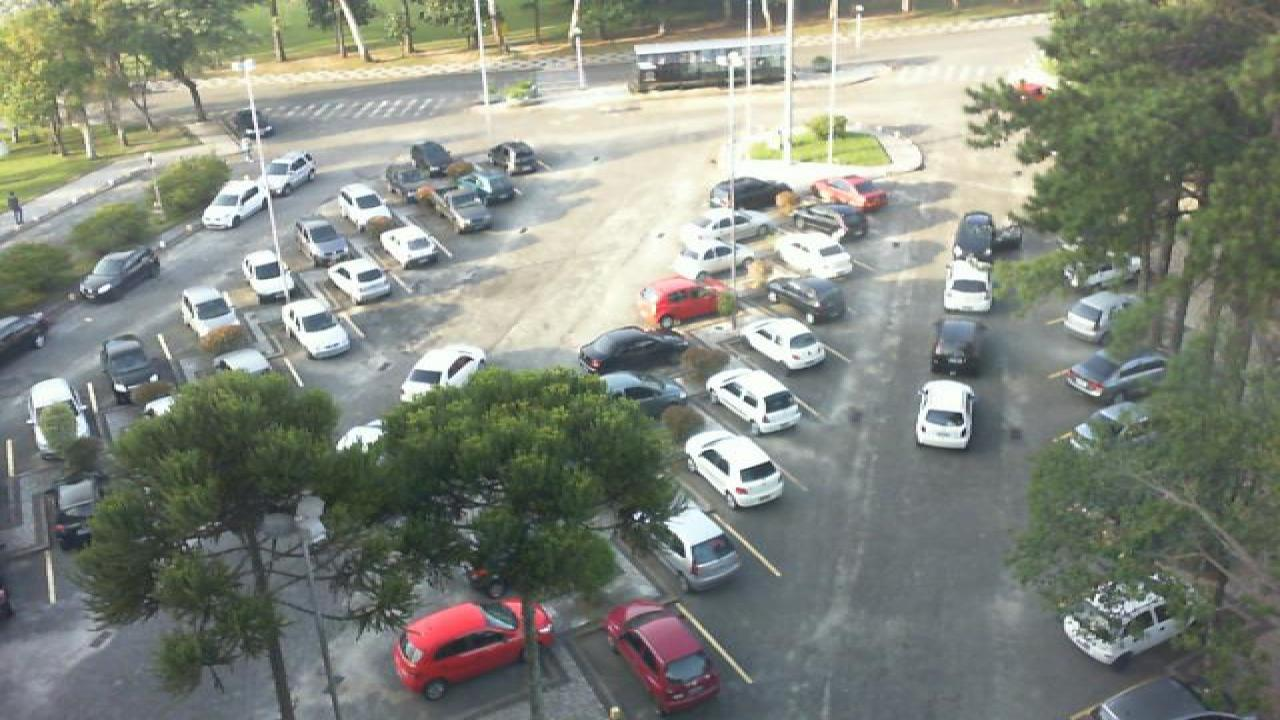Car: (390, 598, 554, 702), (604, 598, 724, 714), (1060, 581, 1188, 667), (640, 503, 744, 592), (682, 431, 786, 507), (704, 366, 804, 437), (576, 323, 690, 373), (636, 273, 728, 333), (398, 345, 488, 404), (736, 315, 830, 370), (1062, 354, 1172, 400), (76, 248, 160, 302), (914, 379, 976, 452), (28, 378, 84, 457), (98, 333, 162, 402), (762, 275, 850, 325), (280, 298, 352, 359), (1062, 289, 1140, 343), (774, 231, 856, 280), (598, 369, 684, 415), (198, 179, 272, 232), (178, 284, 242, 343), (674, 227, 748, 278), (322, 256, 394, 305), (930, 316, 986, 376), (792, 202, 868, 246), (706, 176, 794, 212), (432, 184, 494, 234), (810, 174, 890, 212), (252, 151, 316, 198), (292, 216, 352, 266), (940, 259, 994, 314), (242, 250, 296, 305), (336, 181, 400, 227), (376, 225, 444, 268), (690, 209, 774, 243), (1062, 253, 1140, 289), (950, 210, 994, 264), (456, 169, 518, 205), (488, 140, 544, 176), (406, 140, 456, 176), (384, 161, 434, 197)
